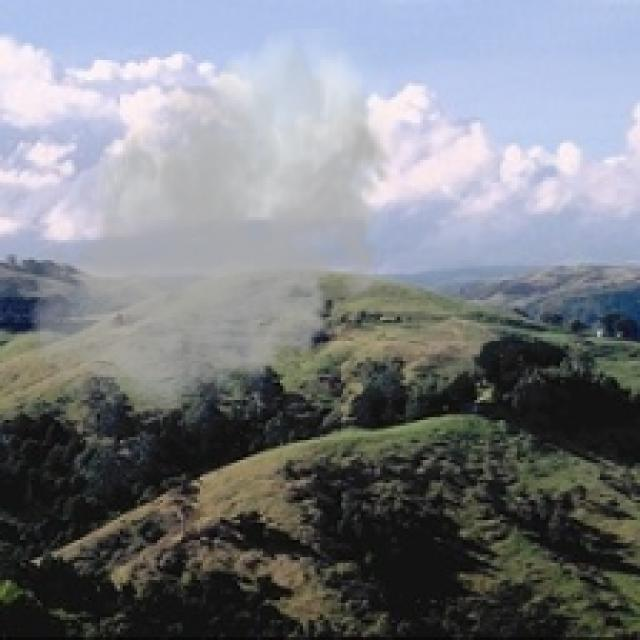smoke: (23, 29, 403, 432)
